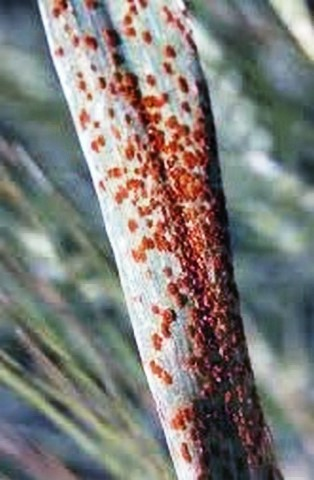Leaf Rust: (61, 17, 276, 476)
